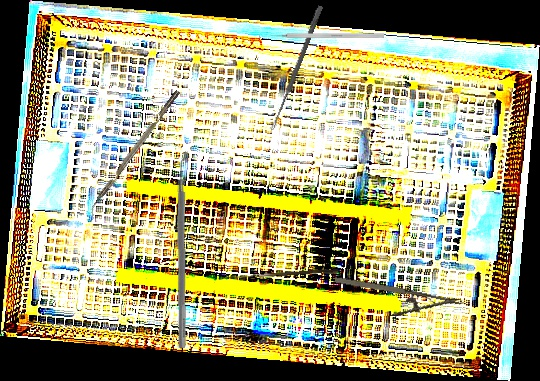Chopper: (84, 89, 186, 220)
Hook Surgical: (224, 267, 339, 283), (265, 33, 384, 38)
Needle Holder: (329, 273, 465, 330)
Spatula Surgical: (174, 150, 195, 348)
Surgical Spoon: (269, 4, 324, 132)
